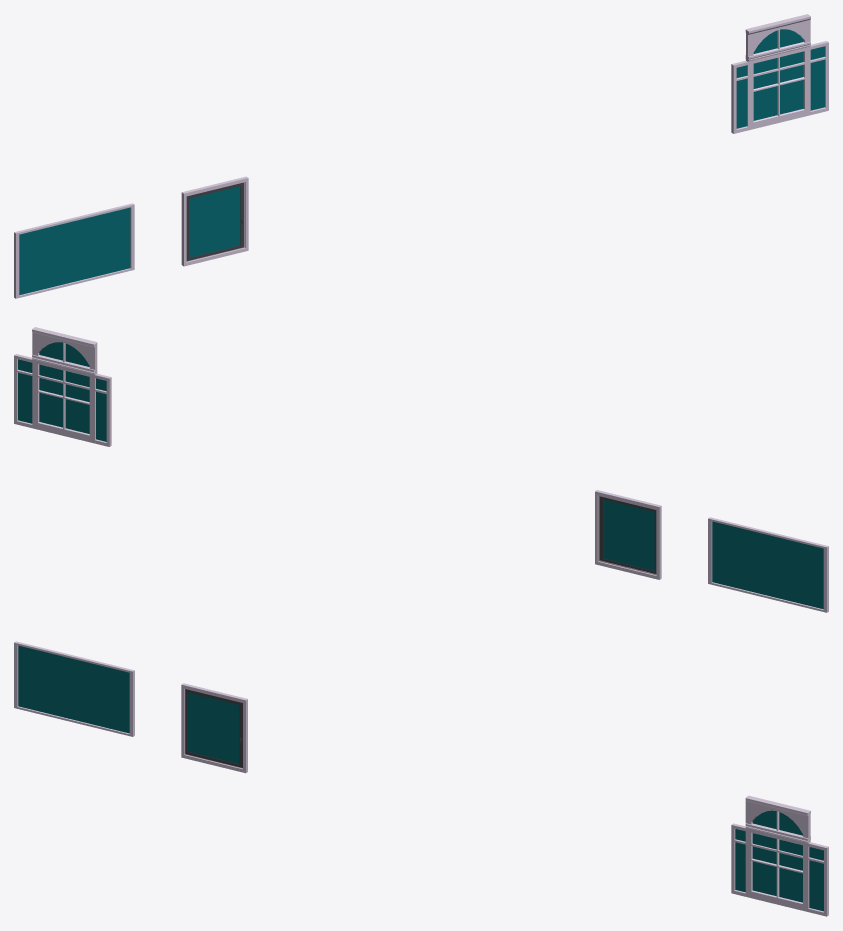
File: window.fbx
The picture shows the model from 3 angles, top to bottom: view 1: azimuth 30°, elevation 25°; view 2: azimuth 150°, elevation 25°; view 3: azimuth 330°, elevation 25°; orthographic projection.
Visible parts, largest first — view 1: Glass004, WindowBorder01, Glass01, Glass03, ConfessionMirror, Glass02, WCwindowBorder, WindowBorder02, WCwindow; view 2: Glass004, WindowBorder01, Glass01, Glass03, ConfessionMirror, Glass02, WCwindowBorder, WindowBorder02, WCwindow; view 3: Glass004, WindowBorder01, Glass01, Glass03, ConfessionMirror, Glass02, WCwindowBorder, WindowBorder02, WCwindow.
Boxes of the visible parts, x1,y1,x2,y2 form: Glass004: (19,207,130,295); WindowBorder01: (745,14,810,130); Glass01: (753,29,803,120); Glass03: (189,186,240,257); ConfessionMirror: (14,203,134,298); Glass02: (736,46,824,128); WCwindowBorder: (181,176,248,266); WindowBorder02: (731,41,828,133); WCwindow: (186,182,244,261); Glass004: (712,521,823,609); WindowBorder01: (32,327,97,443); Glass01: (39,342,89,433); Glass03: (603,499,654,570); ConfessionMirror: (708,517,828,612); Glass02: (18,359,106,441); WCwindowBorder: (595,490,661,579); WindowBorder02: (14,354,111,446); WCwindow: (599,496,656,573); Glass004: (18,645,129,733); WindowBorder01: (745,795,810,911); Glass01: (752,810,802,902); Glass03: (188,692,238,763); ConfessionMirror: (14,641,134,736); Glass02: (735,829,823,911); WCwindowBorder: (181,683,247,773); WindowBorder02: (731,823,828,916); WCwindow: (185,689,242,767).
Size of the model in its own units: 1791 by 209 by 12.7.
